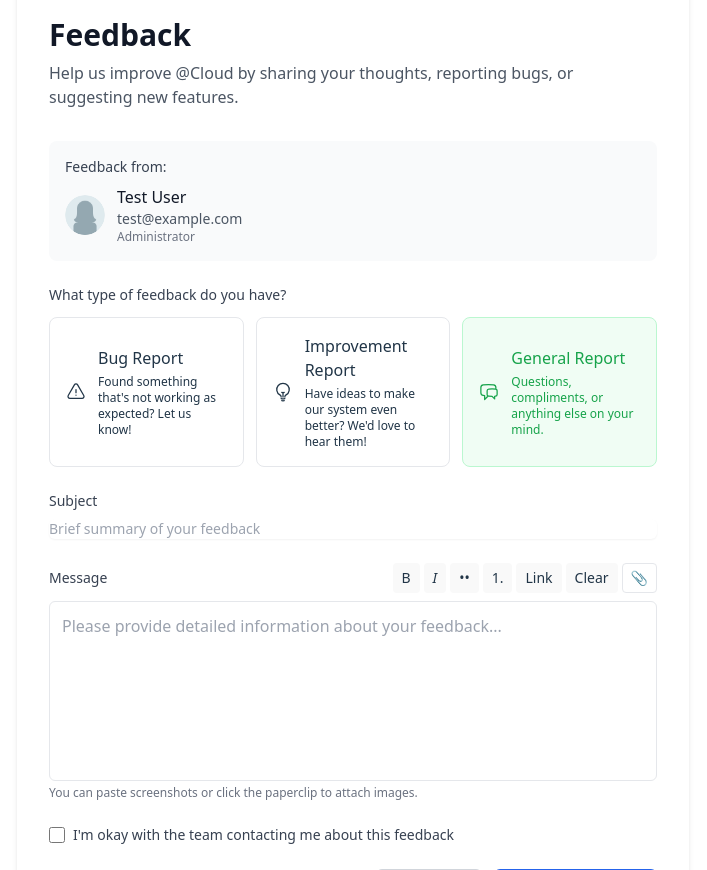
Feedback page › shows success state after submission
Type "Test Subject" into the field labelled "Subject" at (353, 529), box [49,519,657,539]
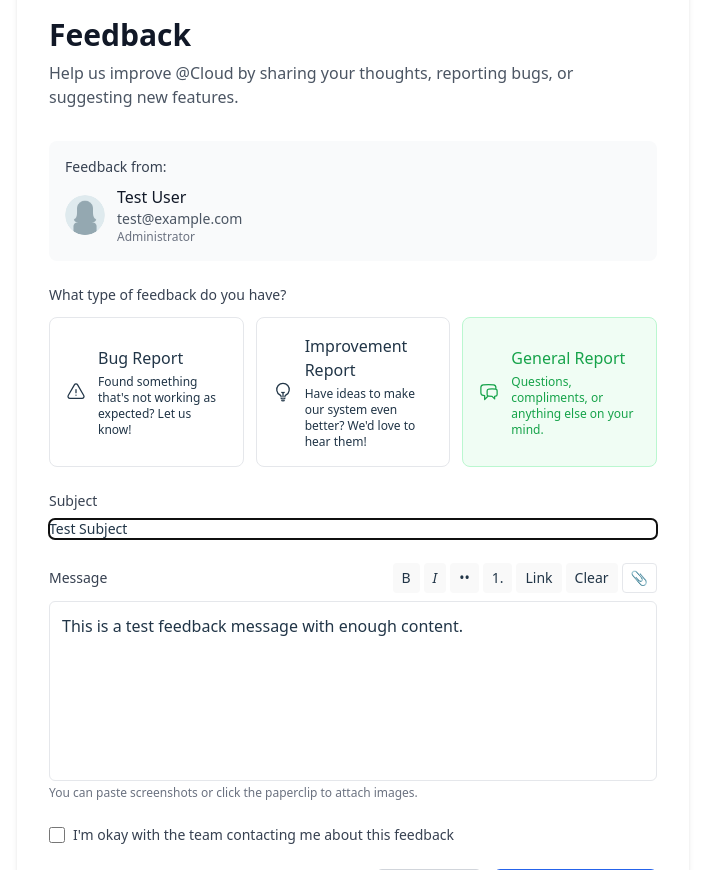
Clear the text box labelled "This is a test feedback message with enough content." at (353, 691), box [49,601,657,781]
(page scrolled)
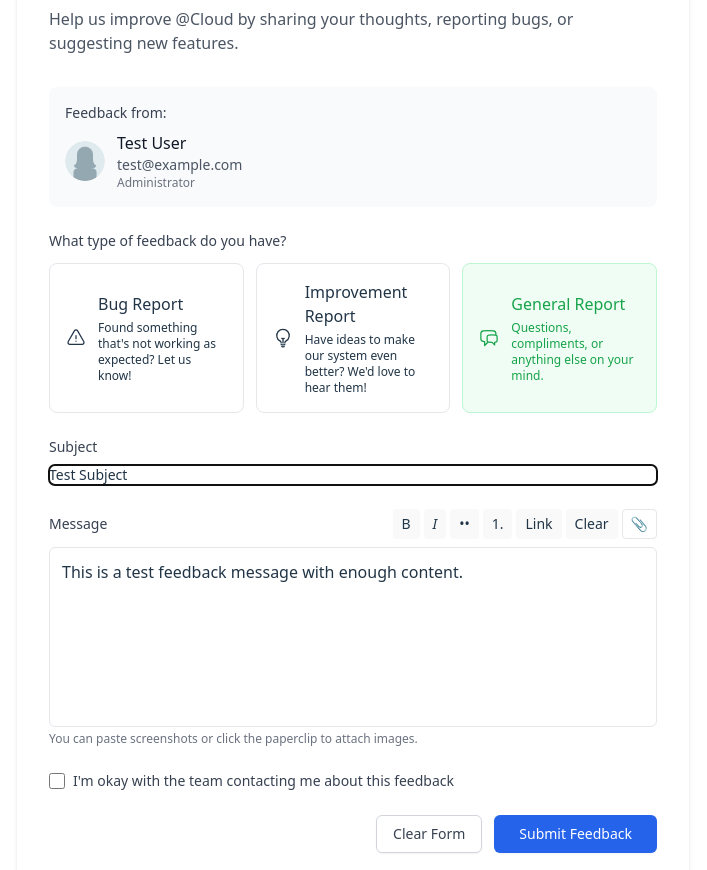
Click the button "Submit Feedback" at (576, 834), box [494,815,657,853]
(page scrolled)
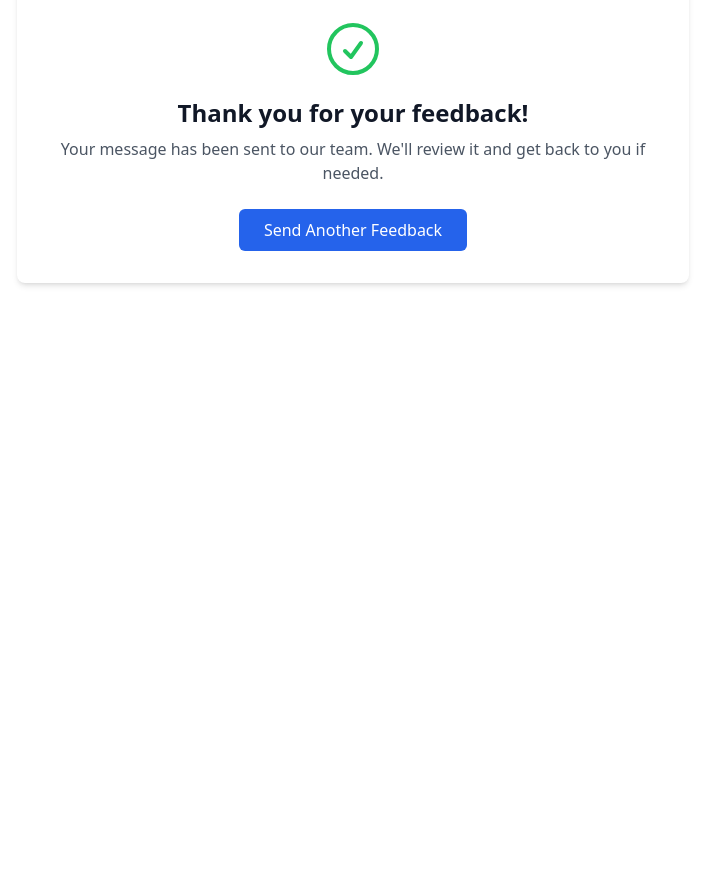
Result: the heading "Thank you for your feedback!" is shown at [178,96,528,129]
Result: the text "Your message has been sent to our team" is shown at [61,138,645,184]
Result: the button "Send Another Feedback" is shown at [239,209,467,251]
